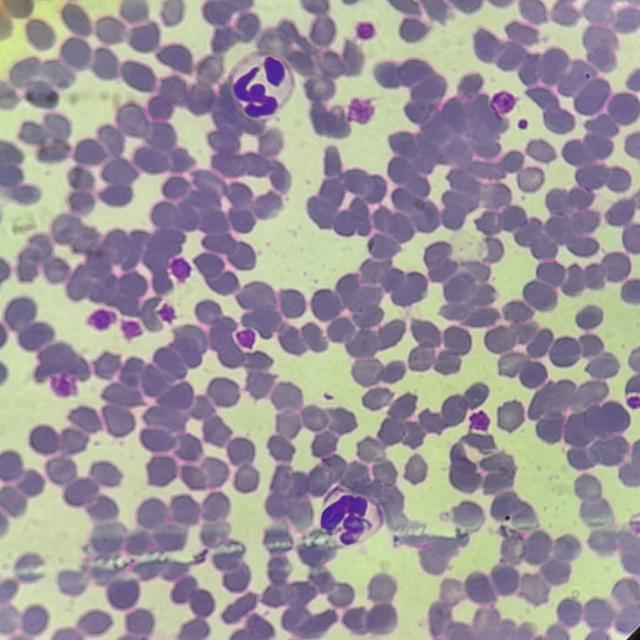Neutrofilo: (231, 49, 297, 126), (317, 486, 387, 550)
